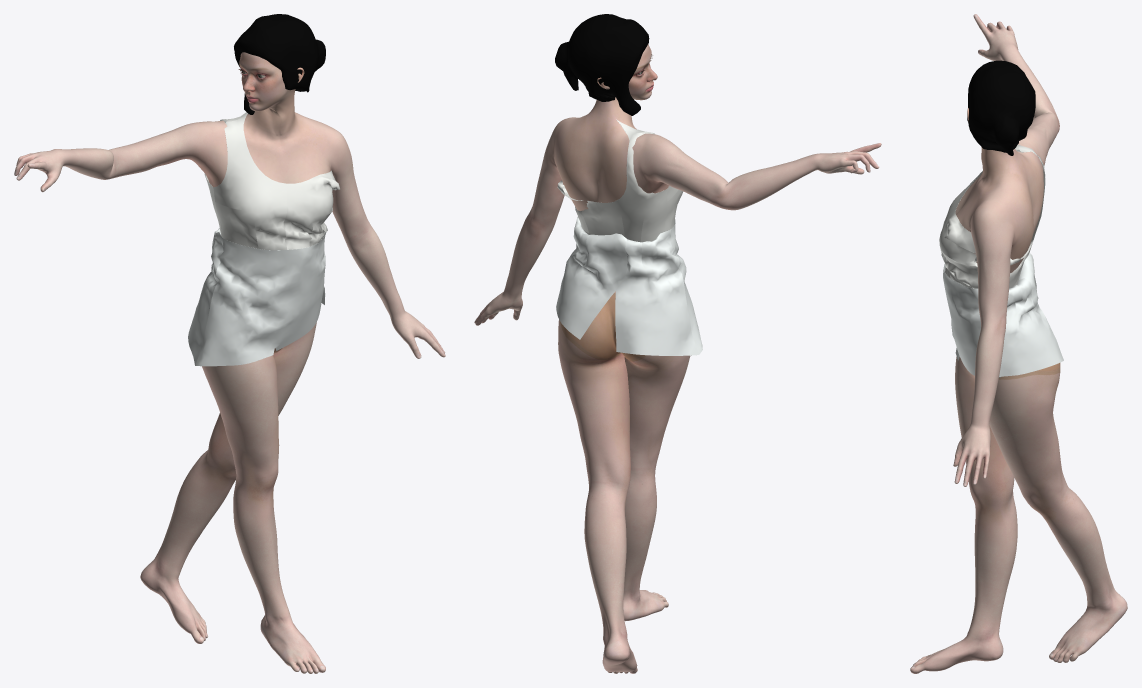
Rendered from Dynamic.obj.
3 views of the same model, side by side, from view 1: azimuth 30°, elevation 25°; view 2: azimuth 150°, elevation 25°; view 3: azimuth 270°, elevation 25° (orthographic). The views are drawn at different scales.
Size of the model in its own units: 1226 by 1775 by 569.
